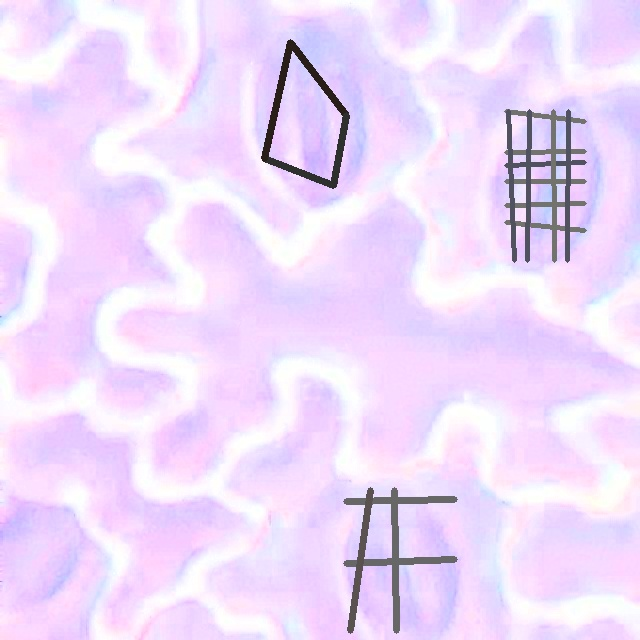open: (343, 487, 456, 633), (261, 39, 349, 188), (504, 109, 586, 262)
